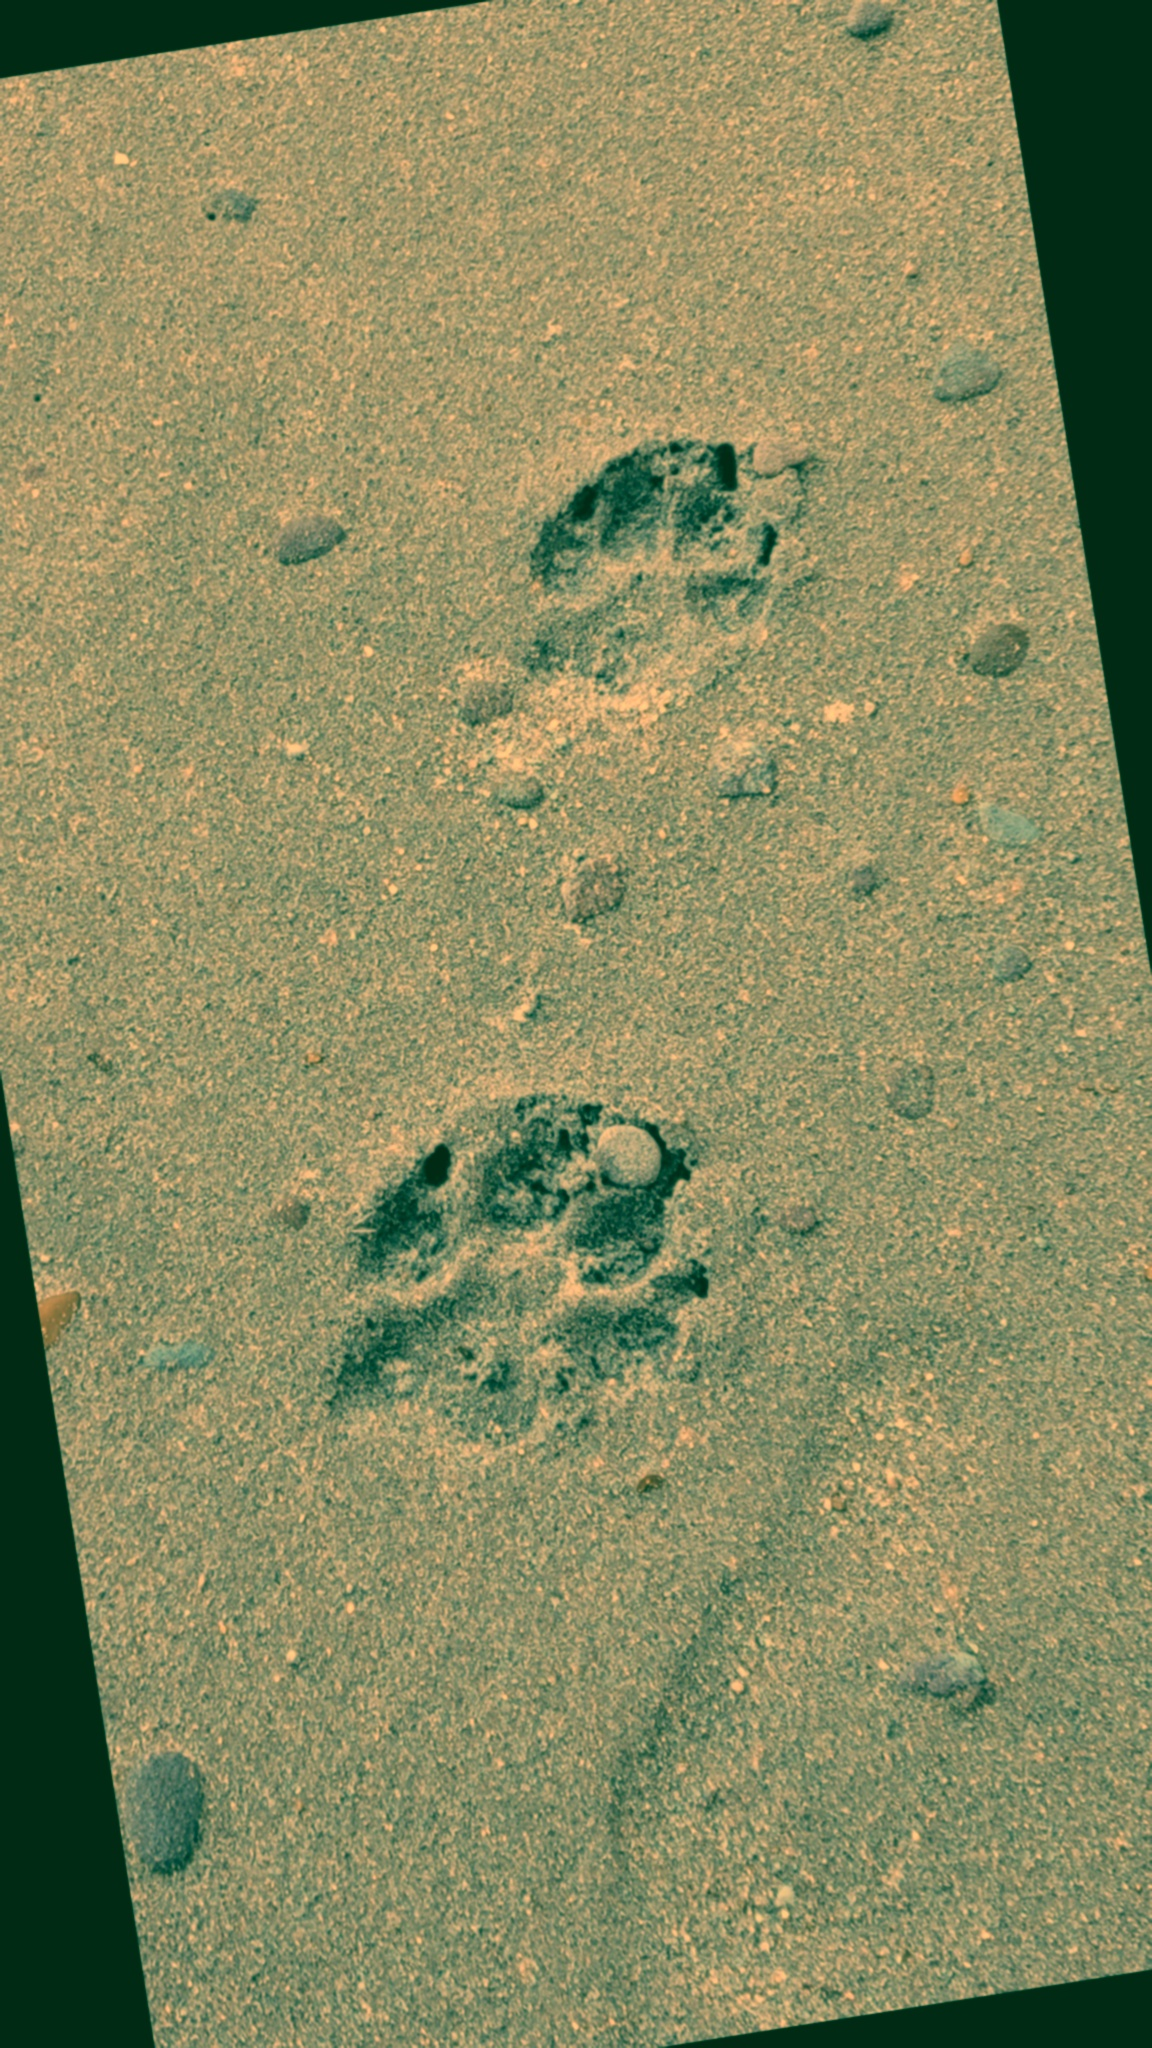loup: (255, 1009, 836, 1550), (369, 338, 930, 838)
